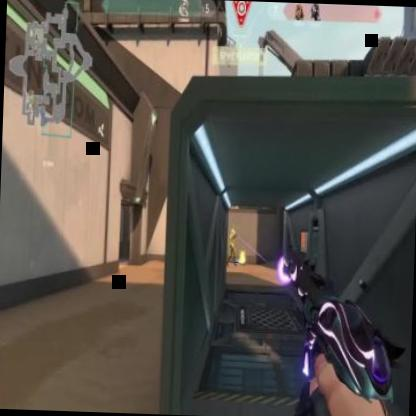enemy: (226, 229, 239, 267)
enemy_head: (230, 228, 234, 236)
